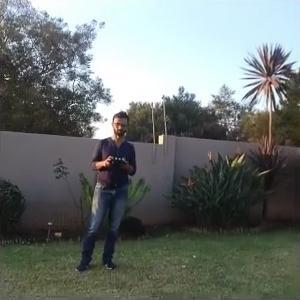follow: (69, 108, 138, 274)
